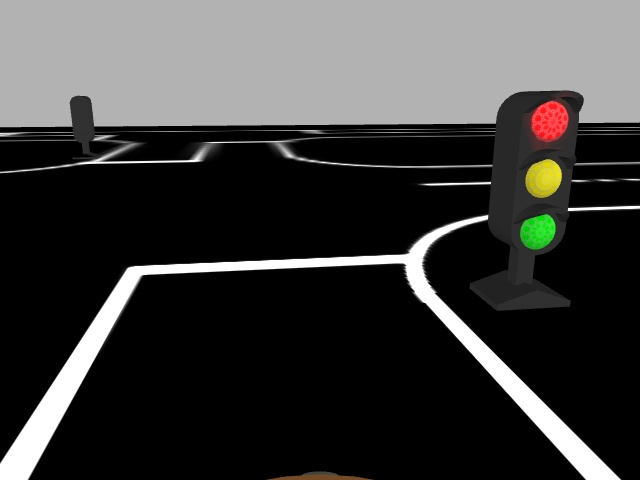red_light: (502, 89, 583, 257)
